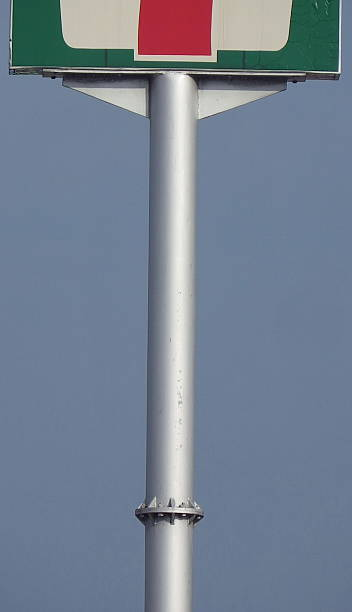light_pole: (144, 78, 194, 612)
